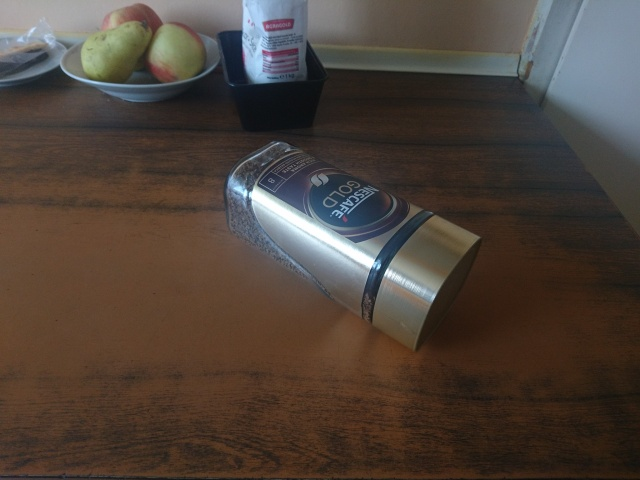Nescafe Gold 225g: (220, 137, 486, 356)
